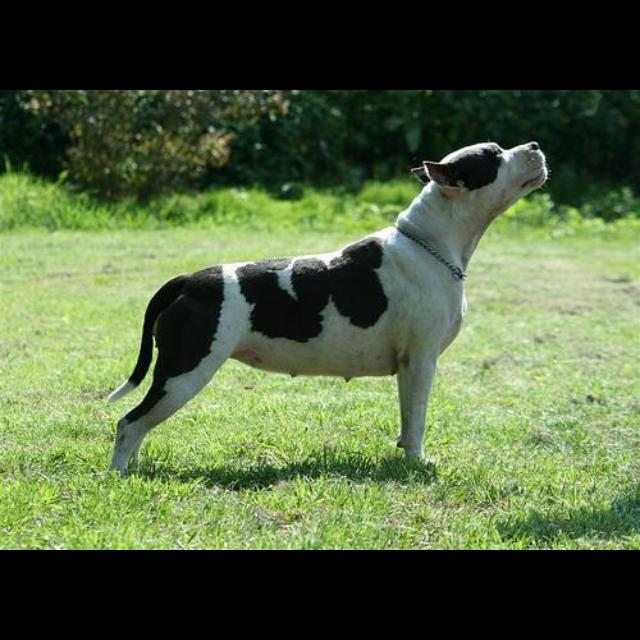amstaff: (106, 140, 550, 479)
